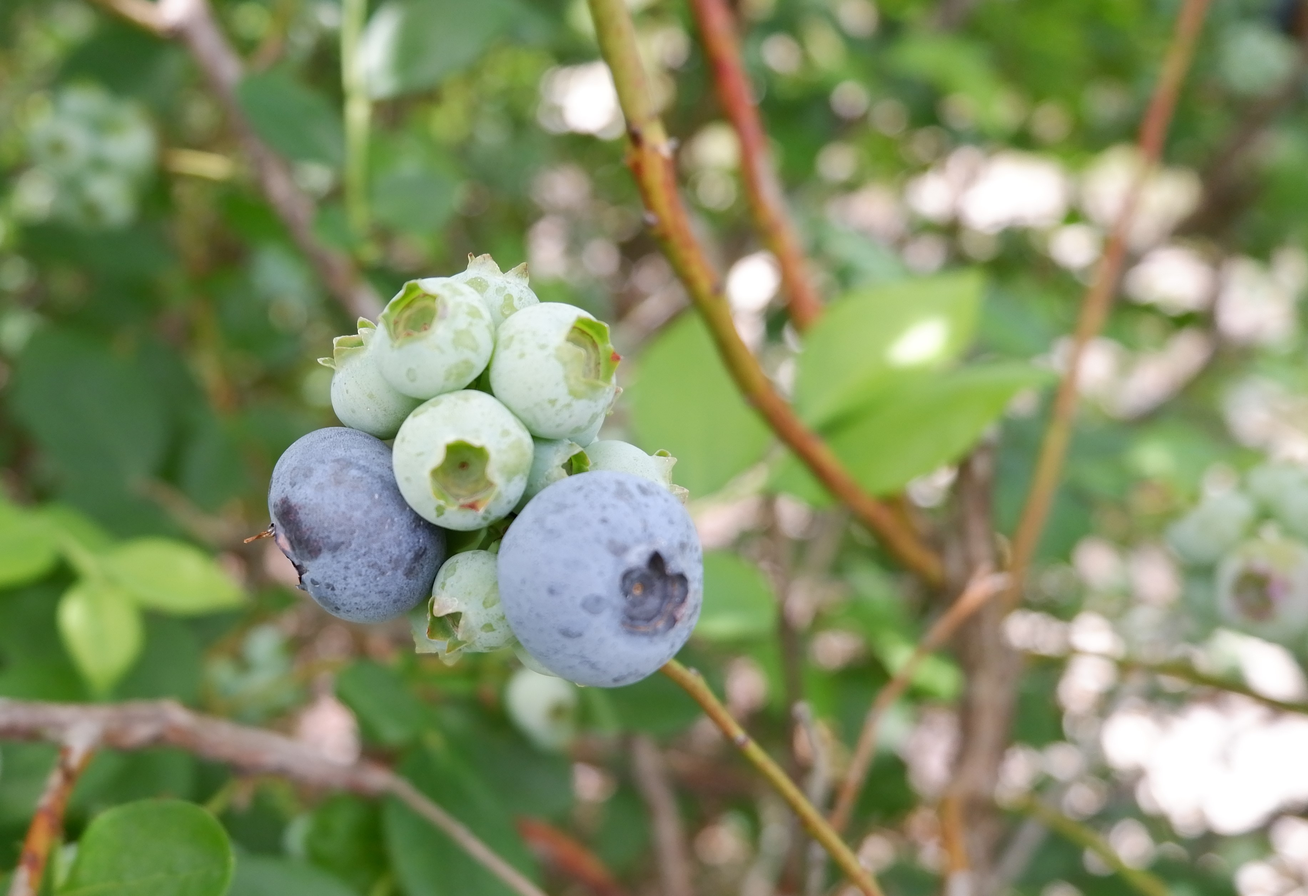Immature: (394, 393, 529, 528), (491, 306, 618, 437), (375, 277, 495, 399), (320, 318, 414, 438), (428, 551, 509, 655), (586, 439, 689, 503), (455, 255, 538, 322), (524, 441, 582, 500), (410, 604, 451, 661), (569, 409, 605, 449)
Mature: (502, 471, 700, 686), (271, 431, 443, 620)
